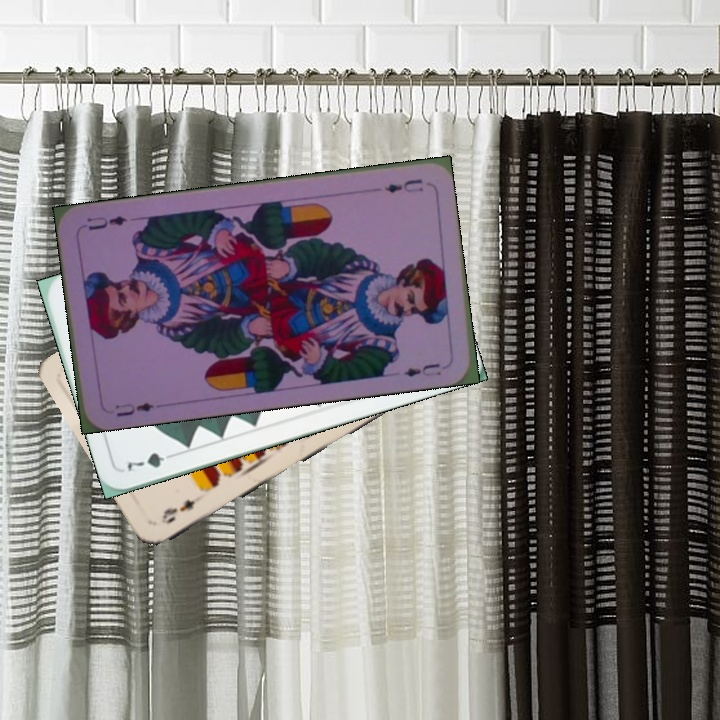E9: (157, 495, 198, 527)
EU: (111, 399, 157, 420), (381, 175, 426, 196)
G7: (122, 448, 180, 474)
